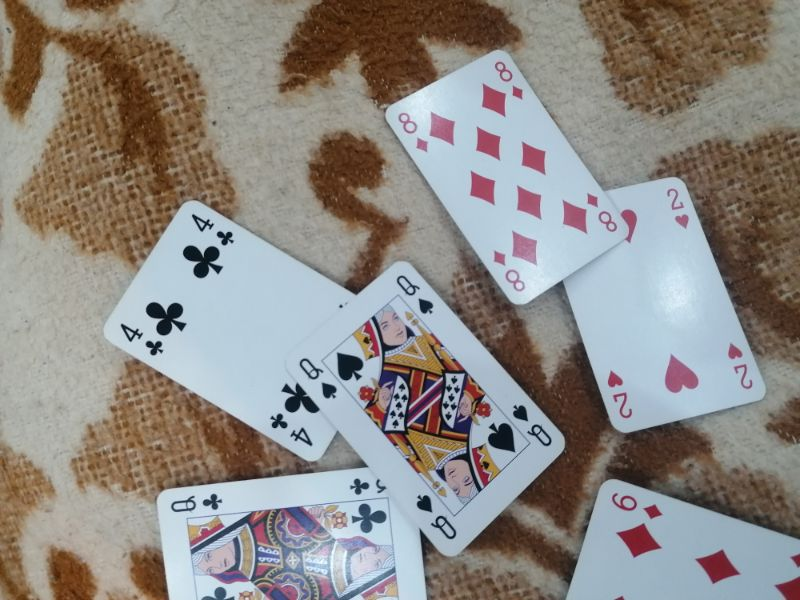2h: (599, 363, 638, 423), (722, 337, 761, 396), (662, 183, 694, 234)
4c: (114, 308, 169, 362), (185, 207, 241, 253), (263, 408, 320, 452)
6d: (606, 487, 671, 524)
8d: (487, 247, 532, 299), (393, 105, 434, 157), (489, 56, 532, 103), (581, 190, 621, 238)
Qc: (166, 485, 228, 519)
Qs: (503, 398, 556, 452), (409, 489, 462, 543), (295, 353, 348, 405), (390, 270, 439, 321)
